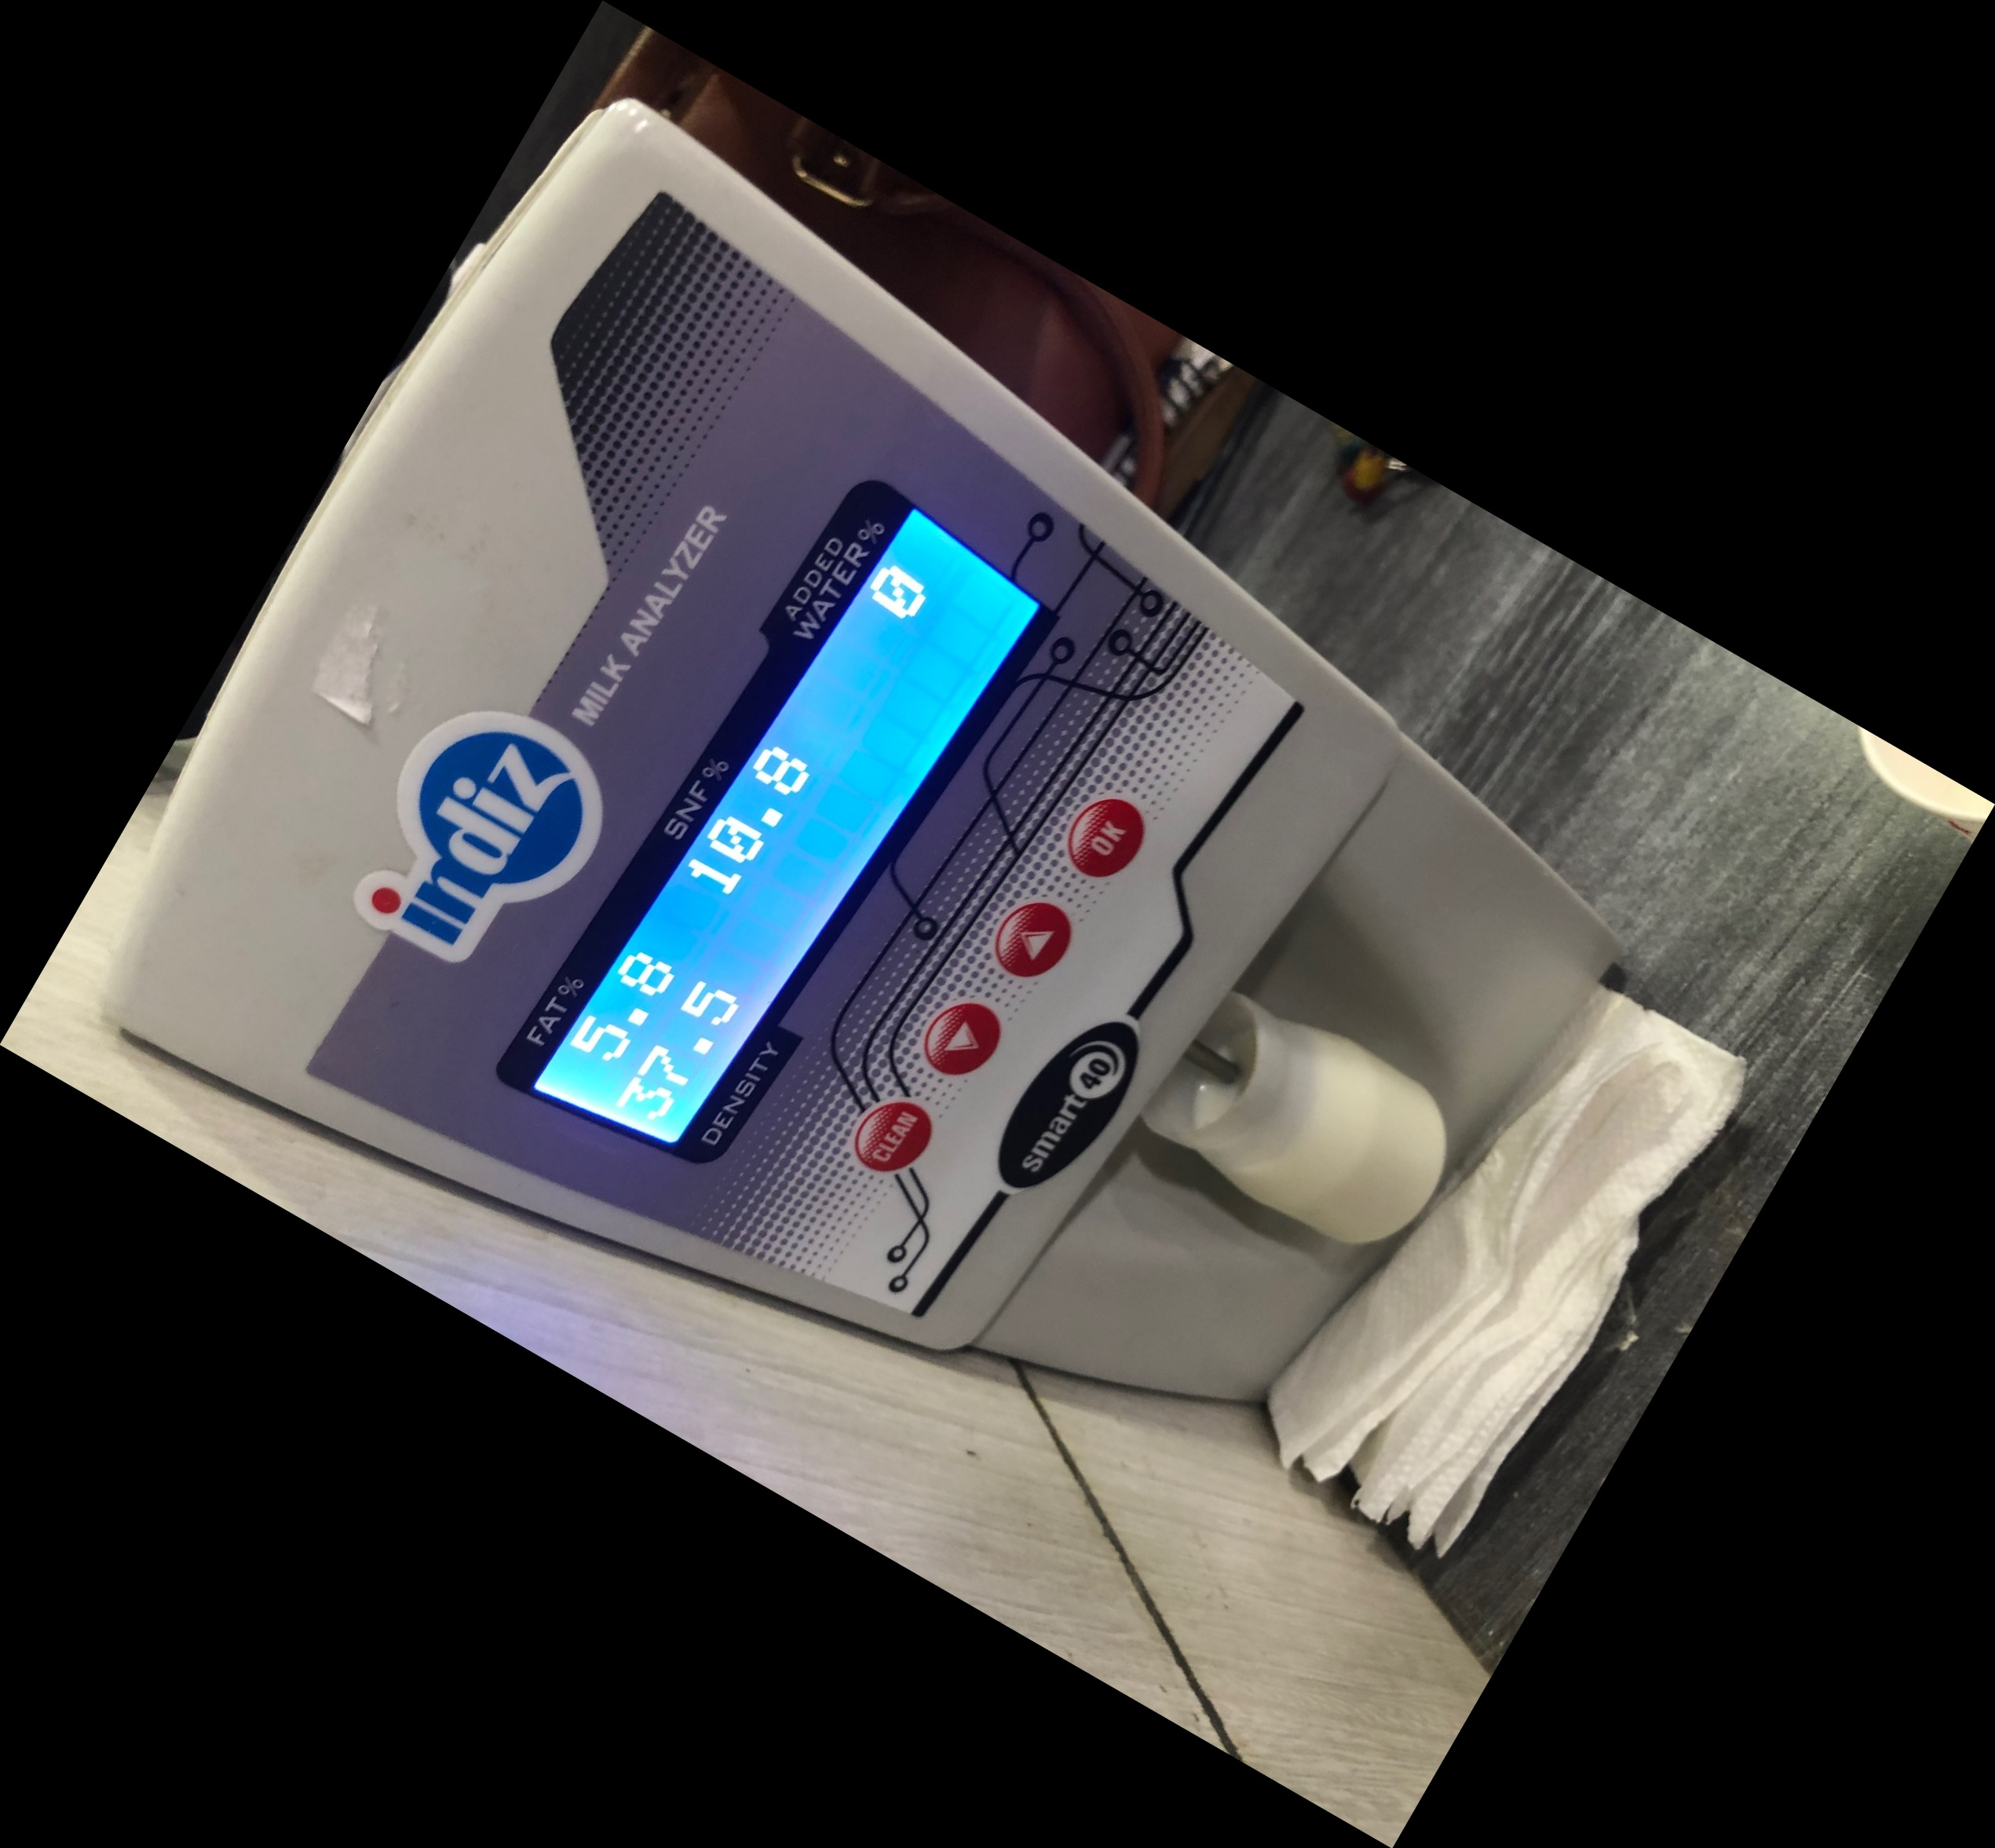lcd: (480, 455, 1088, 1172)
